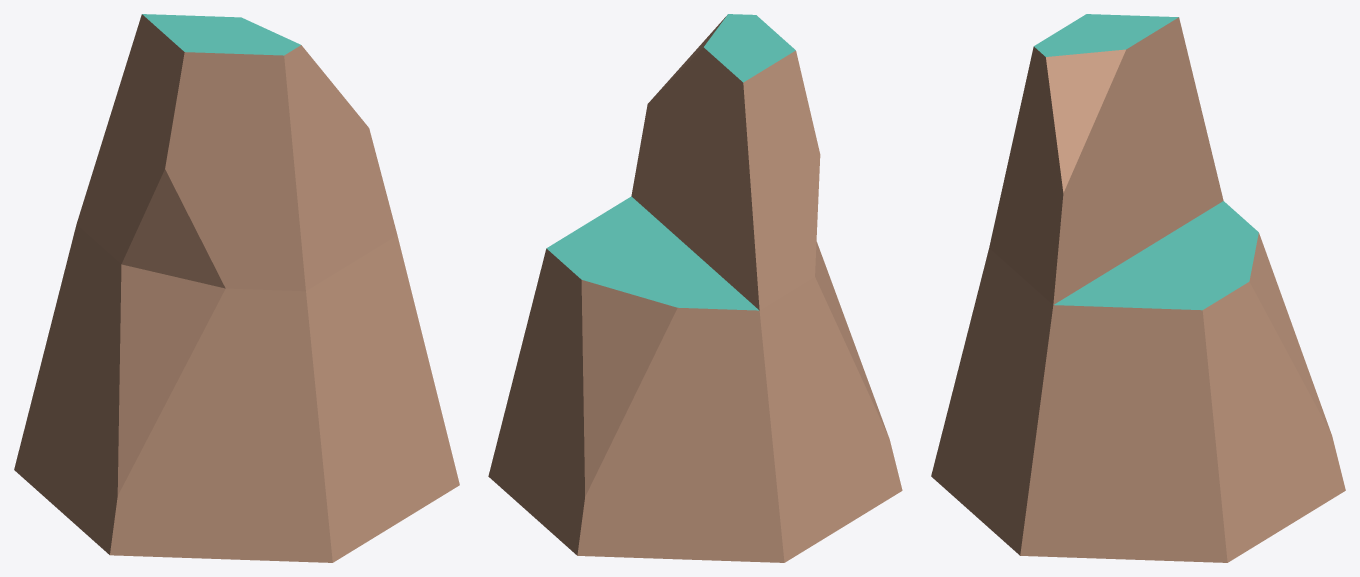
Rendered from rock_tallJ.glb.
The picture shows the model from 3 angles, left to right: view 1: azimuth 30°, elevation 25°; view 2: azimuth 150°, elevation 25°; view 3: azimuth 270°, elevation 25°; orthographic projection. The views are drawn at different scales.
Parts seen in each view (by area): view 1: rock_tallJ; view 2: rock_tallJ; view 3: rock_tallJ.
Part boxes in pixels (x1,y1,x2,y2): rock_tallJ: [14, 14, 459, 562]; rock_tallJ: [488, 14, 902, 562]; rock_tallJ: [931, 14, 1345, 562].
Bounding box in the file's own units: 0.4879 × 0.62 × 0.5382.
